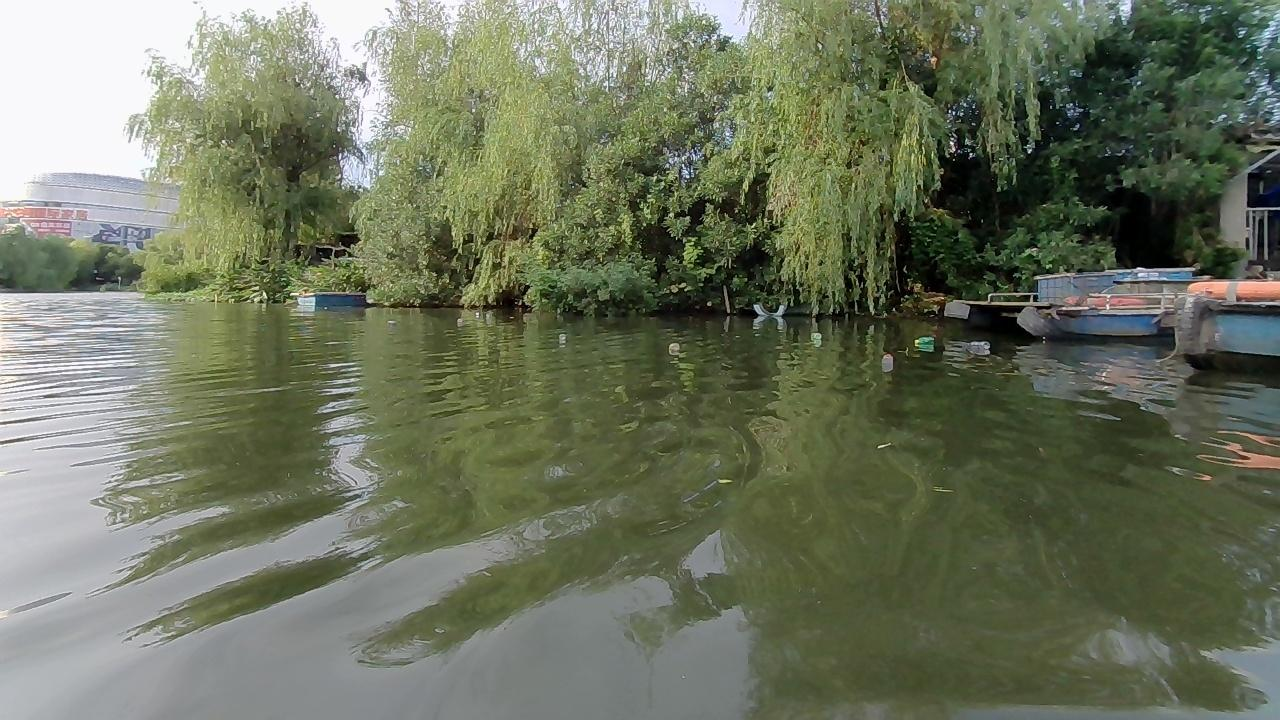bottle: (966, 336, 989, 354), (550, 325, 570, 345), (878, 350, 894, 366), (914, 336, 928, 345), (669, 340, 680, 349), (811, 329, 820, 340)
